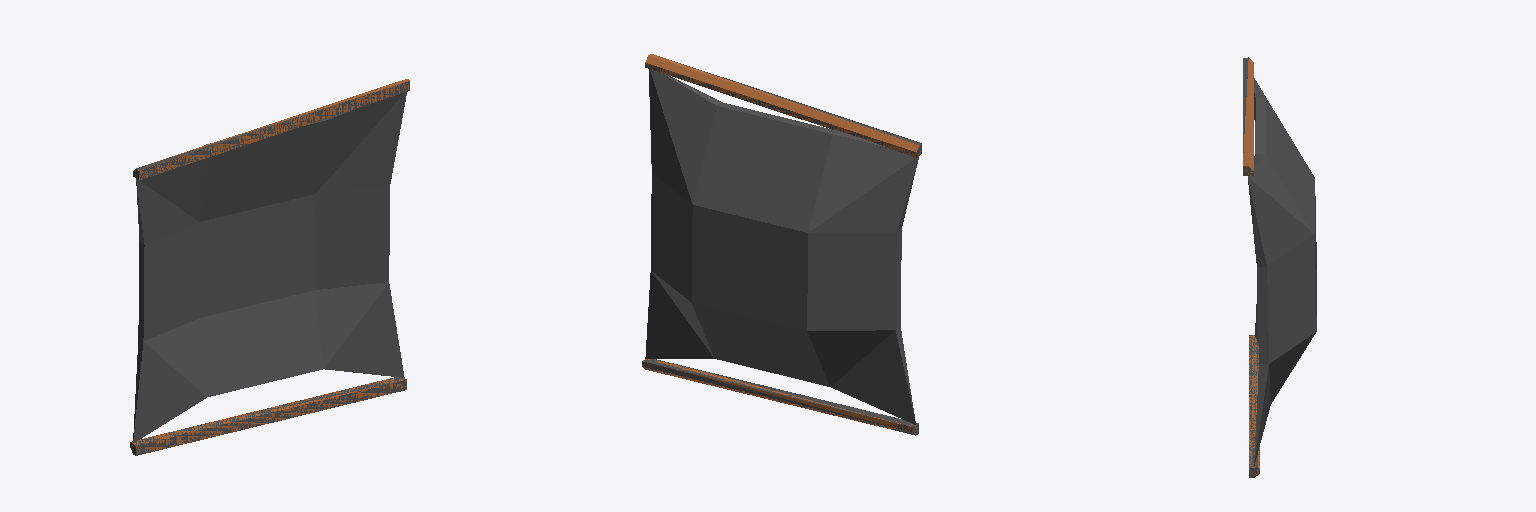
The model's file is sail_right.obj.
The picture shows the model from 3 angles: view 1: azimuth 30°, elevation 25°; view 2: azimuth 150°, elevation 25°; view 3: azimuth 270°, elevation 25°; orthographic projection.
Parts seen in each view (by area): view 1: sail_back; view 2: sail_back; view 3: sail_back.
Part boxes in pixels (bbox=[...]): sail_back: bbox=[130, 79, 409, 455]; sail_back: bbox=[642, 54, 921, 435]; sail_back: bbox=[1243, 57, 1316, 477].
Size of the model in its own units: 2.71 by 2.97 by 0.6435.